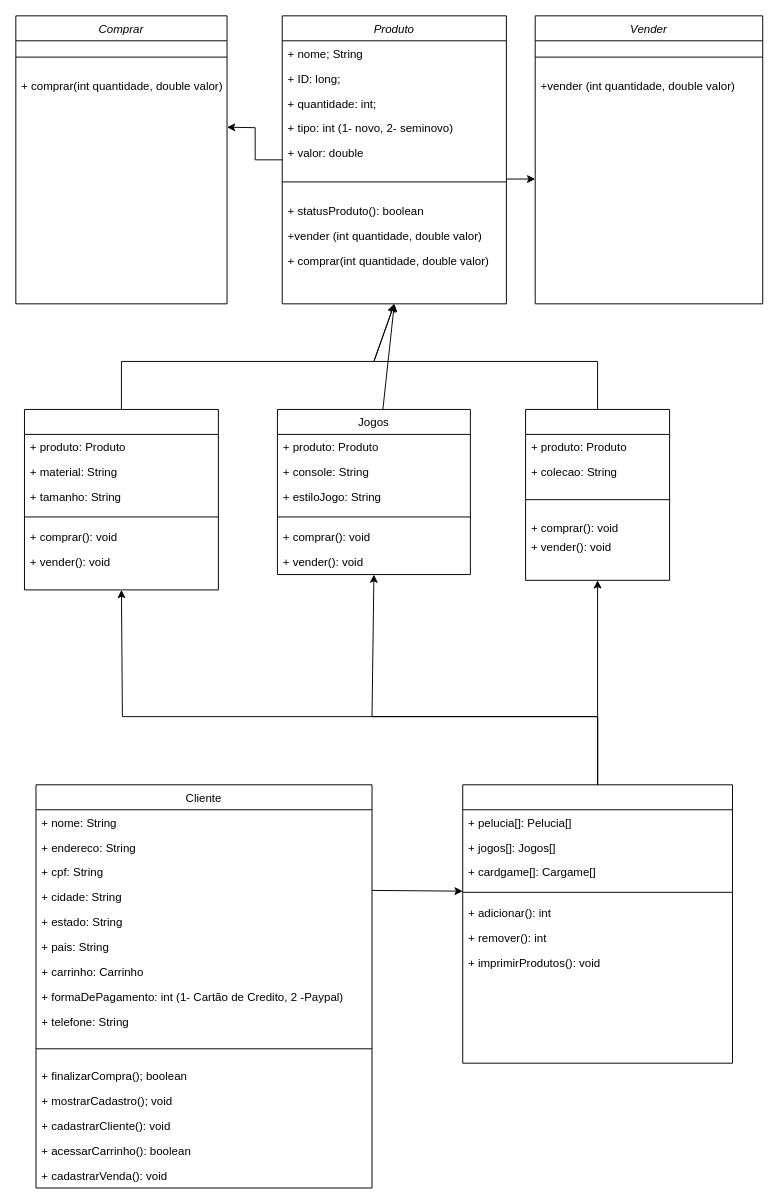
Image size: 779x1204. Some labels were removed from this diagram. Here are the shapes that lost their labels. From the top down, the box of each, then its label:
(24, 408, 218, 590): Pelucias
(525, 408, 670, 580): CardGame
(462, 784, 732, 1063): Carrinho
